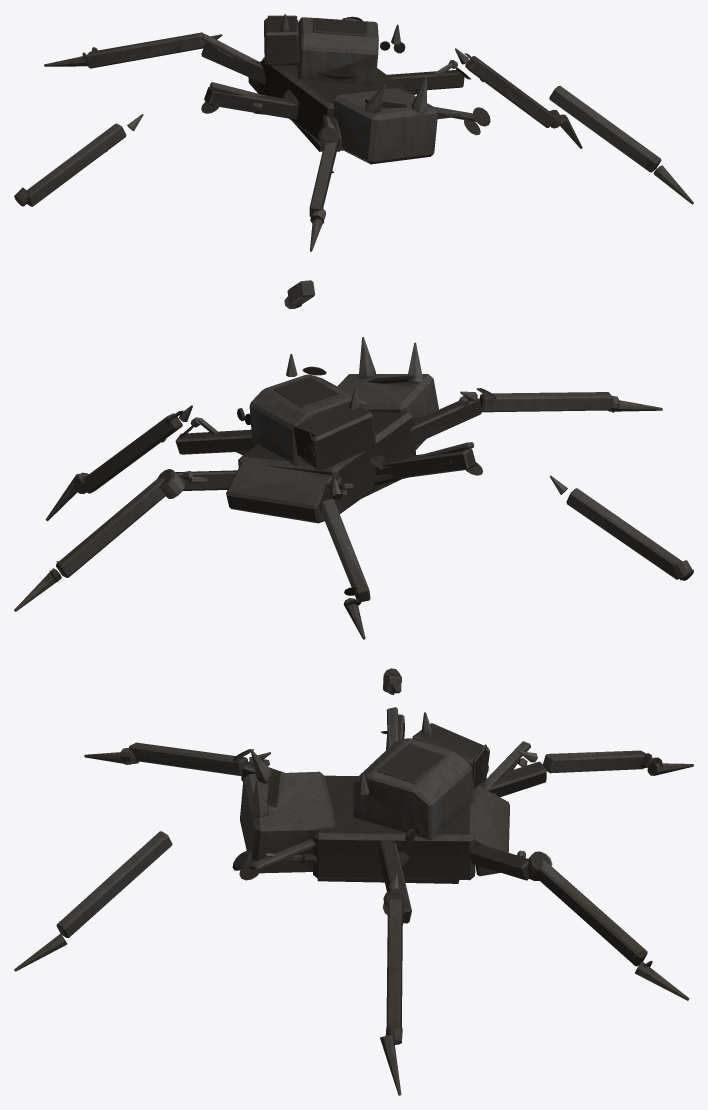
File: chs_widowmaker_wreck.fbx
3 views of the same model, one above another, from view 1: azimuth 30°, elevation 25°; view 2: azimuth 150°, elevation 25°; view 3: azimuth 270°, elevation 25° (orthographic). The views are drawn at different scales.
Parts seen in each view (by area): view 1: base_bar, torso_bar, shinBR_bar, shinFL_bar, shinML_bar, thighML_bar, shinMR_bar, shinBL_bar, thighFL_bar, thighMR_bar, thighBR_bar, thighBL_bar; view 2: base_bar, torso_bar, shinFR_bar, shinBL_bar, shinML_bar, shinMR_bar, thighML_bar, shinFL_bar, thighMR_bar, thighBL_bar, thighFR_bar, shinBR_bar; view 3: base_bar, torso_bar, shinFR_bar, shinBR_bar, shinMR_bar, shinBL_bar, shinFL_bar, thighFL_bar, thighFR_bar, thighMR_bar, thighBR_bar.
Boxes of the visible parts, x1,y1,x2,y2 form: base_bar: [248, 57, 438, 164]; torso_bar: [264, 14, 405, 85]; shinBR_bar: [549, 85, 693, 204]; shinFL_bar: [44, 32, 222, 68]; shinML_bar: [14, 114, 143, 206]; thighML_bar: [201, 82, 298, 119]; shinMR_bar: [455, 48, 582, 148]; shinBL_bar: [309, 117, 337, 251]; thighFL_bar: [201, 34, 266, 83]; thighMR_bar: [387, 53, 479, 94]; thighBR_bar: [434, 106, 490, 135]; thighBL_bar: [318, 115, 341, 151]; base_bar: [226, 337, 438, 523]; torso_bar: [237, 354, 376, 470]; shinFR_bar: [14, 477, 166, 611]; shinBL_bar: [460, 391, 662, 412]; shinML_bar: [549, 475, 693, 580]; shinMR_bar: [45, 405, 192, 520]; thighML_bar: [369, 442, 482, 485]; shinFL_bar: [320, 478, 370, 639]; thighMR_bar: [165, 410, 257, 455]; thighBL_bar: [409, 388, 496, 444]; thighFR_bar: [157, 469, 237, 498]; shinBR_bar: [284, 280, 315, 309]; base_bar: [240, 749, 509, 883]; torso_bar: [353, 712, 489, 842]; shinFR_bar: [536, 860, 689, 1000]; shinBR_bar: [14, 831, 172, 971]; shinMR_bar: [380, 873, 402, 1095]; shinBL_bar: [84, 742, 270, 776]; shinFL_bar: [518, 750, 693, 775]; thighFL_bar: [478, 741, 546, 797]; thighFR_bar: [469, 844, 552, 880]; thighMR_bar: [378, 840, 411, 923]; thighBR_bar: [232, 838, 317, 880].
Size of the model in its own units: 2763 by 906 by 2492.
2 materials, 2 textured.
